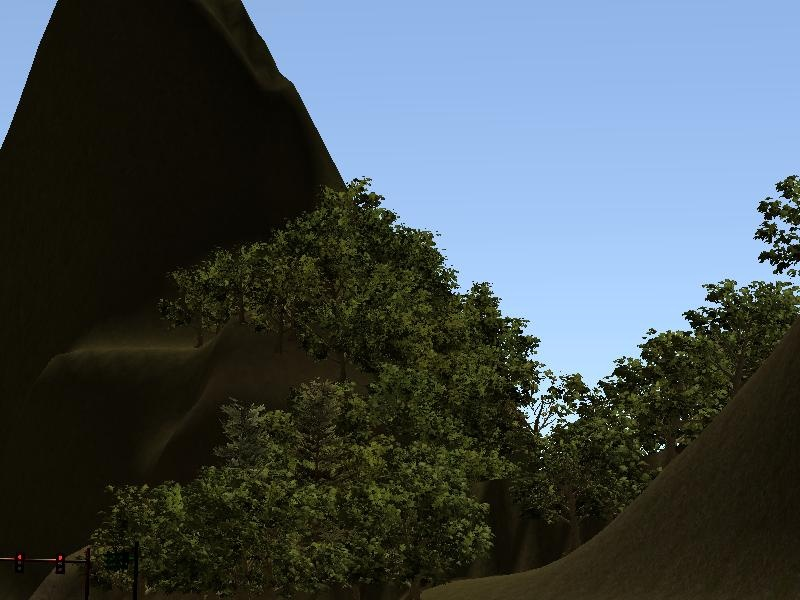Red: (55, 552, 66, 576), (14, 552, 25, 574)
